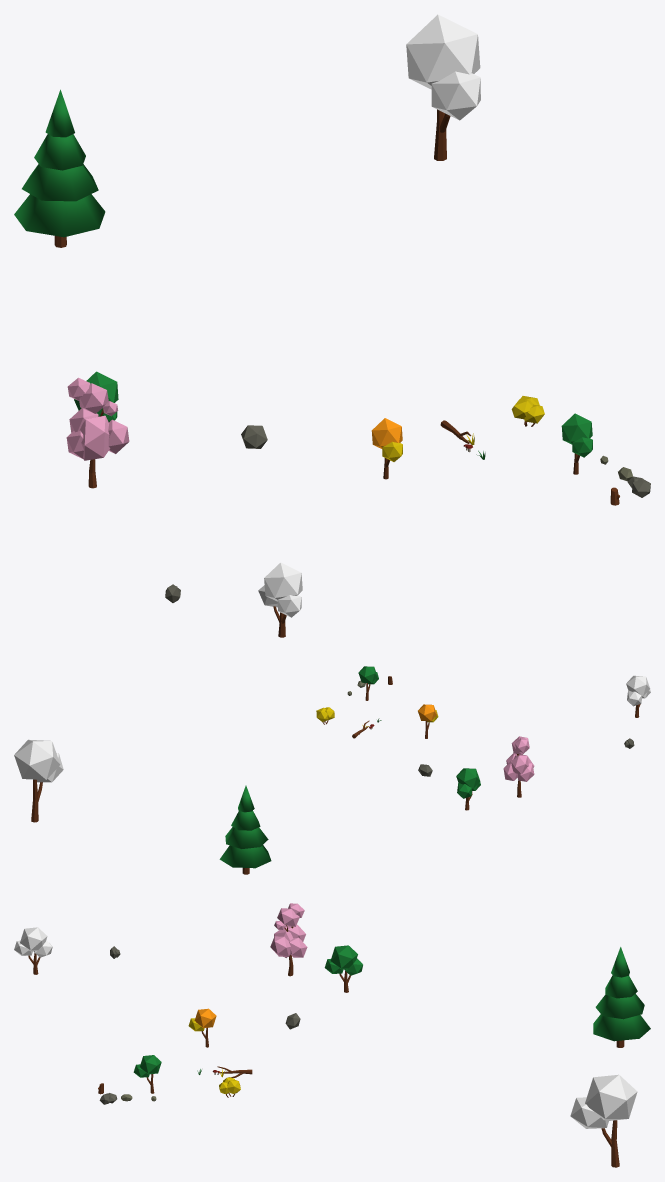
The model's file is pokeenv.glb.
The picture shows the model from 3 angles, top to bottom: view 1: azimuth 30°, elevation 25°; view 2: azimuth 150°, elevation 25°; view 3: azimuth 270°, elevation 25°; orthographic projection. The views are drawn at different scales.
Visible parts, largest first — view 1: Cylinder.001, Cylinder.004, Cylinder.021, Cylinder.012, Cylinder, Cylinder.002; view 2: Cylinder.001, Cylinder.004, Cylinder.021, Cylinder.009, Cylinder.012, Cylinder.002, Cylinder; view 3: Cylinder.001, Cylinder.004, Cylinder.021, Cylinder.012, Cylinder.009, Cylinder, Cylinder.002.
Part boxes in pixels (<box>): Cylinder.001: <box>14,89,105,247</box>; Cylinder.004: <box>406,14,480,160</box>; Cylinder.021: <box>66,377,129,488</box>; Cylinder.012: <box>258,562,302,637</box>; Cylinder: <box>561,413,592,474</box>; Cylinder.002: <box>371,418,402,479</box>; Cylinder.001: <box>219,785,271,874</box>; Cylinder.004: <box>14,739,63,822</box>; Cylinder.021: <box>503,736,534,797</box>; Cylinder.009: <box>456,768,480,810</box>; Cylinder.012: <box>626,675,650,717</box>; Cylinder.002: <box>418,704,438,738</box>; Cylinder: <box>358,666,378,700</box>; Cylinder.001: <box>593,947,650,1047</box>; Cylinder.004: <box>570,1074,637,1167</box>; Cylinder.021: <box>270,903,307,976</box>; Cylinder.012: <box>14,927,52,974</box>; Cylinder.009: <box>324,945,362,992</box>; Cylinder: <box>133,1055,161,1093</box>; Cylinder.002: <box>188,1008,216,1047</box>.
Bounding box in the file's own units: 22.1 × 4.79 × 27.2.
